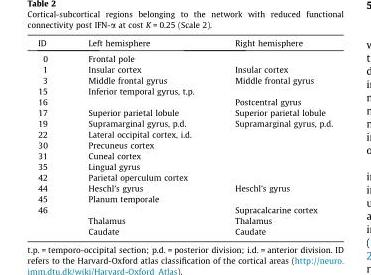table: (37, 37, 332, 235)
table column: (67, 37, 213, 235), (213, 37, 332, 235), (37, 37, 67, 235)
table column header: (37, 37, 332, 50)
table row: (37, 37, 332, 50), (37, 50, 332, 63), (37, 63, 332, 74), (37, 74, 332, 85), (37, 95, 332, 106), (37, 106, 332, 117), (37, 117, 332, 128), (37, 128, 332, 139), (37, 149, 332, 160), (37, 160, 332, 171), (37, 171, 332, 182), (37, 182, 332, 193), (37, 203, 332, 214), (37, 214, 332, 225), (37, 85, 332, 95), (37, 139, 332, 149), (37, 193, 332, 203), (37, 225, 332, 235)
table spanning cell: (37, 203, 67, 235)
